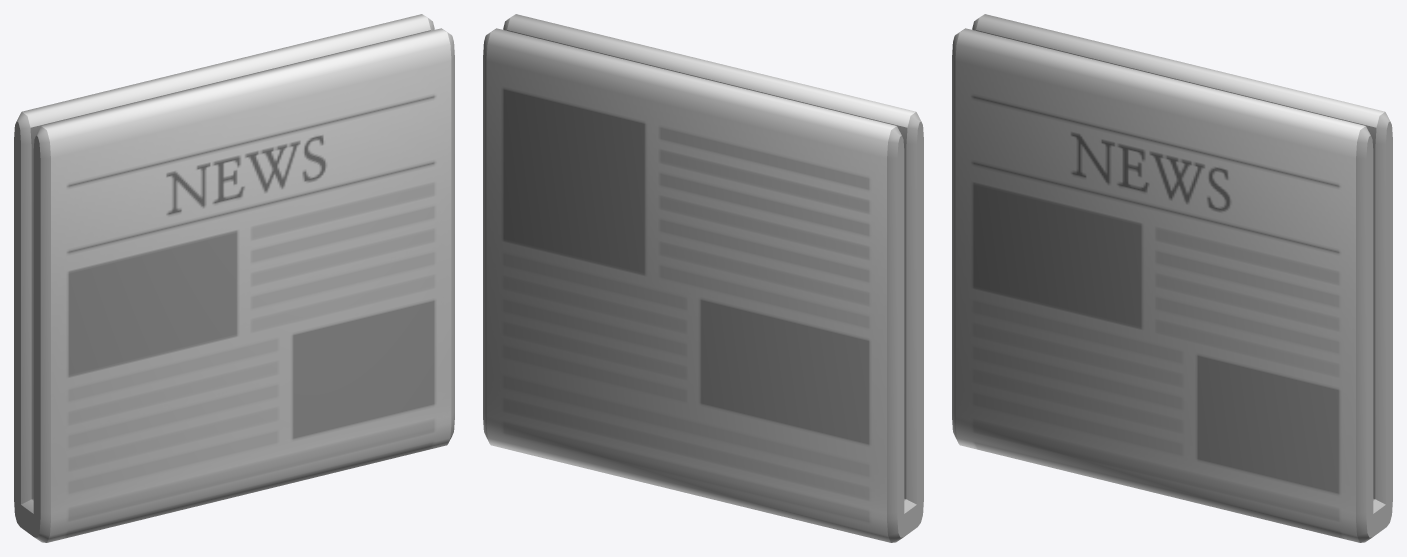
The model's file is newspaper.FBX.
3 views of the same model, side by side, from view 1: azimuth 30°, elevation 25°; view 2: azimuth 150°, elevation 25°; view 3: azimuth 330°, elevation 25° (orthographic).
Visible parts, largest first — view 1: newspaper; view 2: newspaper; view 3: newspaper.
Boxes of the visible parts, <box> form: newspaper: <box>14,14,454,542</box>; newspaper: <box>483,14,923,542</box>; newspaper: <box>952,14,1392,542</box>.
Size of the model in its own units: 36.1 by 34.62 by 5.05.
